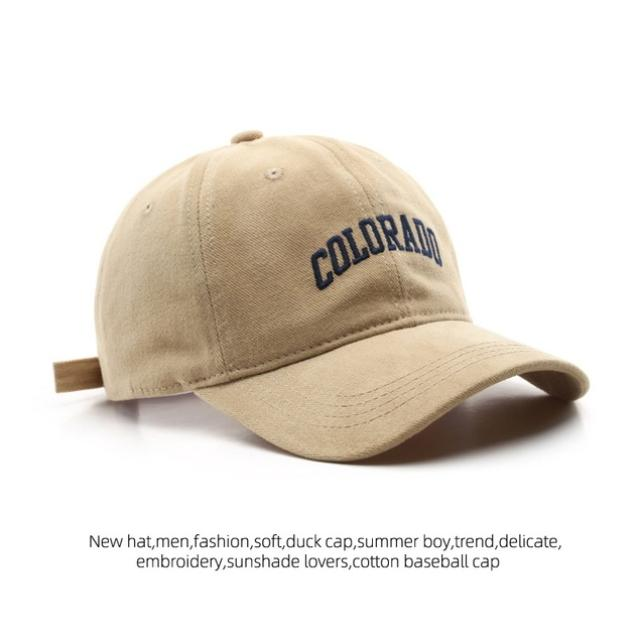Nonhelmet: (50, 126, 590, 464)
